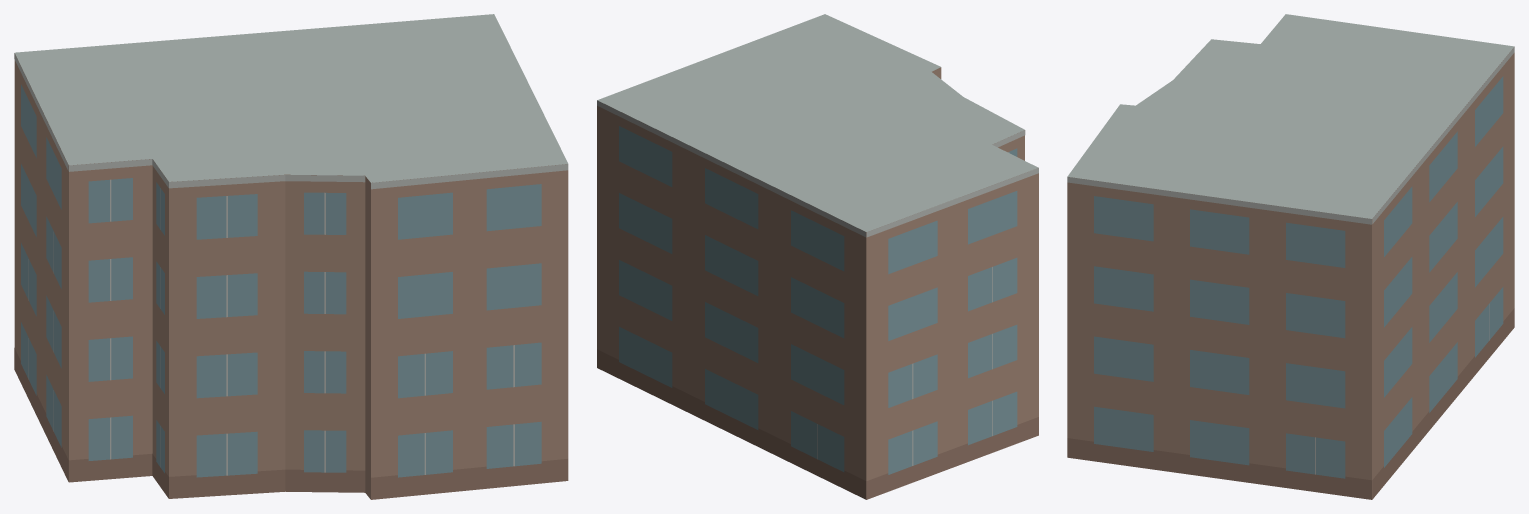
Rendered from survey-upis-32964898.glb.
The picture shows the model from 3 angles, left to right: view 1: azimuth 30°, elevation 25°; view 2: azimuth 150°, elevation 25°; view 3: azimuth 270°, elevation 25°; orthographic projection. The views are drawn at different scales.
Visible parts, largest first — view 1: survey-upis-32964898.tmp; view 2: survey-upis-32964898.tmp; view 3: survey-upis-32964898.tmp.
Boxes of the visible parts, bbox=[...] form: survey-upis-32964898.tmp: bbox=[14, 14, 568, 499]; survey-upis-32964898.tmp: bbox=[597, 14, 1038, 499]; survey-upis-32964898.tmp: bbox=[1067, 14, 1514, 499].
Bounding box in the file's own units: 18.8 × 12 × 17.33.
